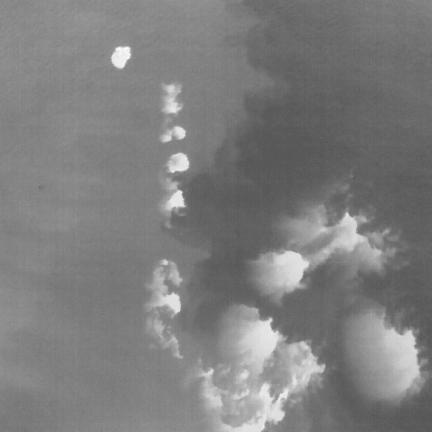flukeprints: (379, 328, 421, 400), (236, 318, 279, 364), (266, 251, 308, 289), (159, 293, 180, 316), (111, 46, 130, 68), (167, 153, 188, 171), (167, 190, 185, 209), (171, 126, 186, 139)
